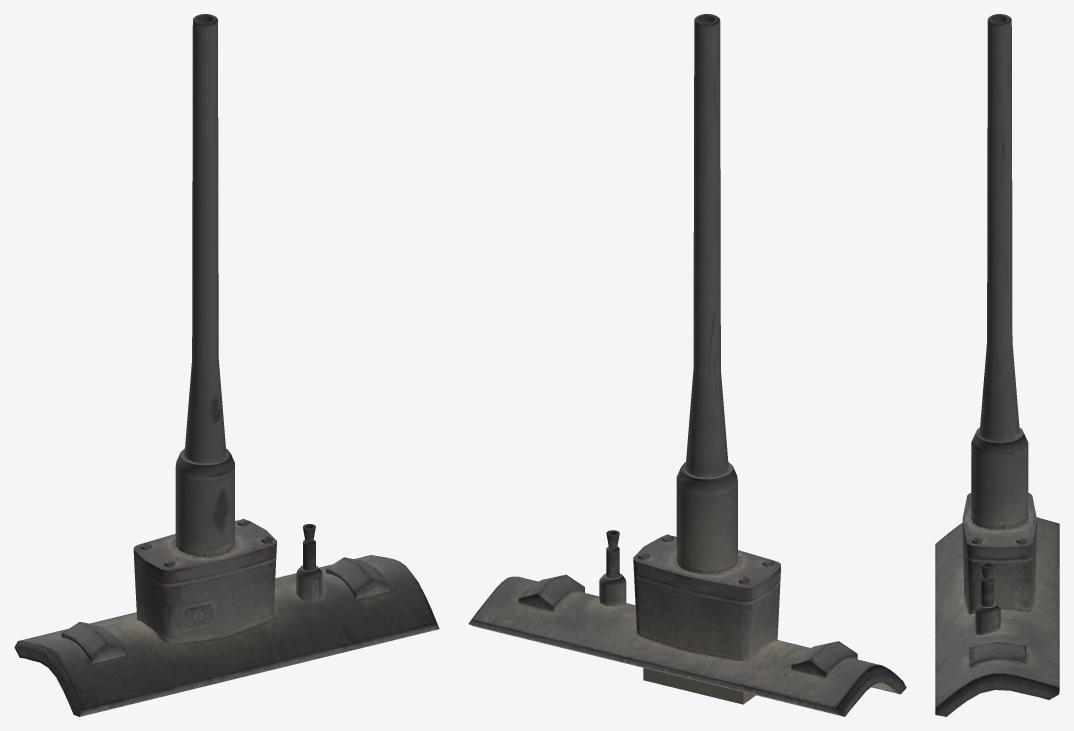
Rendered from Gun_09.glb.
The picture shows the model from 3 angles, left to right: view 1: azimuth 30°, elevation 25°; view 2: azimuth 150°, elevation 25°; view 3: azimuth 270°, elevation 25°; orthographic projection. The views are drawn at different scales.
Parts seen in each view (by area): view 1: set_0_group_0; view 2: set_0_group_0; view 3: set_0_group_0.
Part boxes in pixels (left/top/right/bottom): set_0_group_0: left=14, top=14, right=439, bottom=716; set_0_group_0: left=468, top=14, right=906, bottom=716; set_0_group_0: left=935, top=14, right=1059, bottom=716.
Size of the model in its own units: 1.34 by 2.28 by 0.4194.
1 material, 1 textured.
